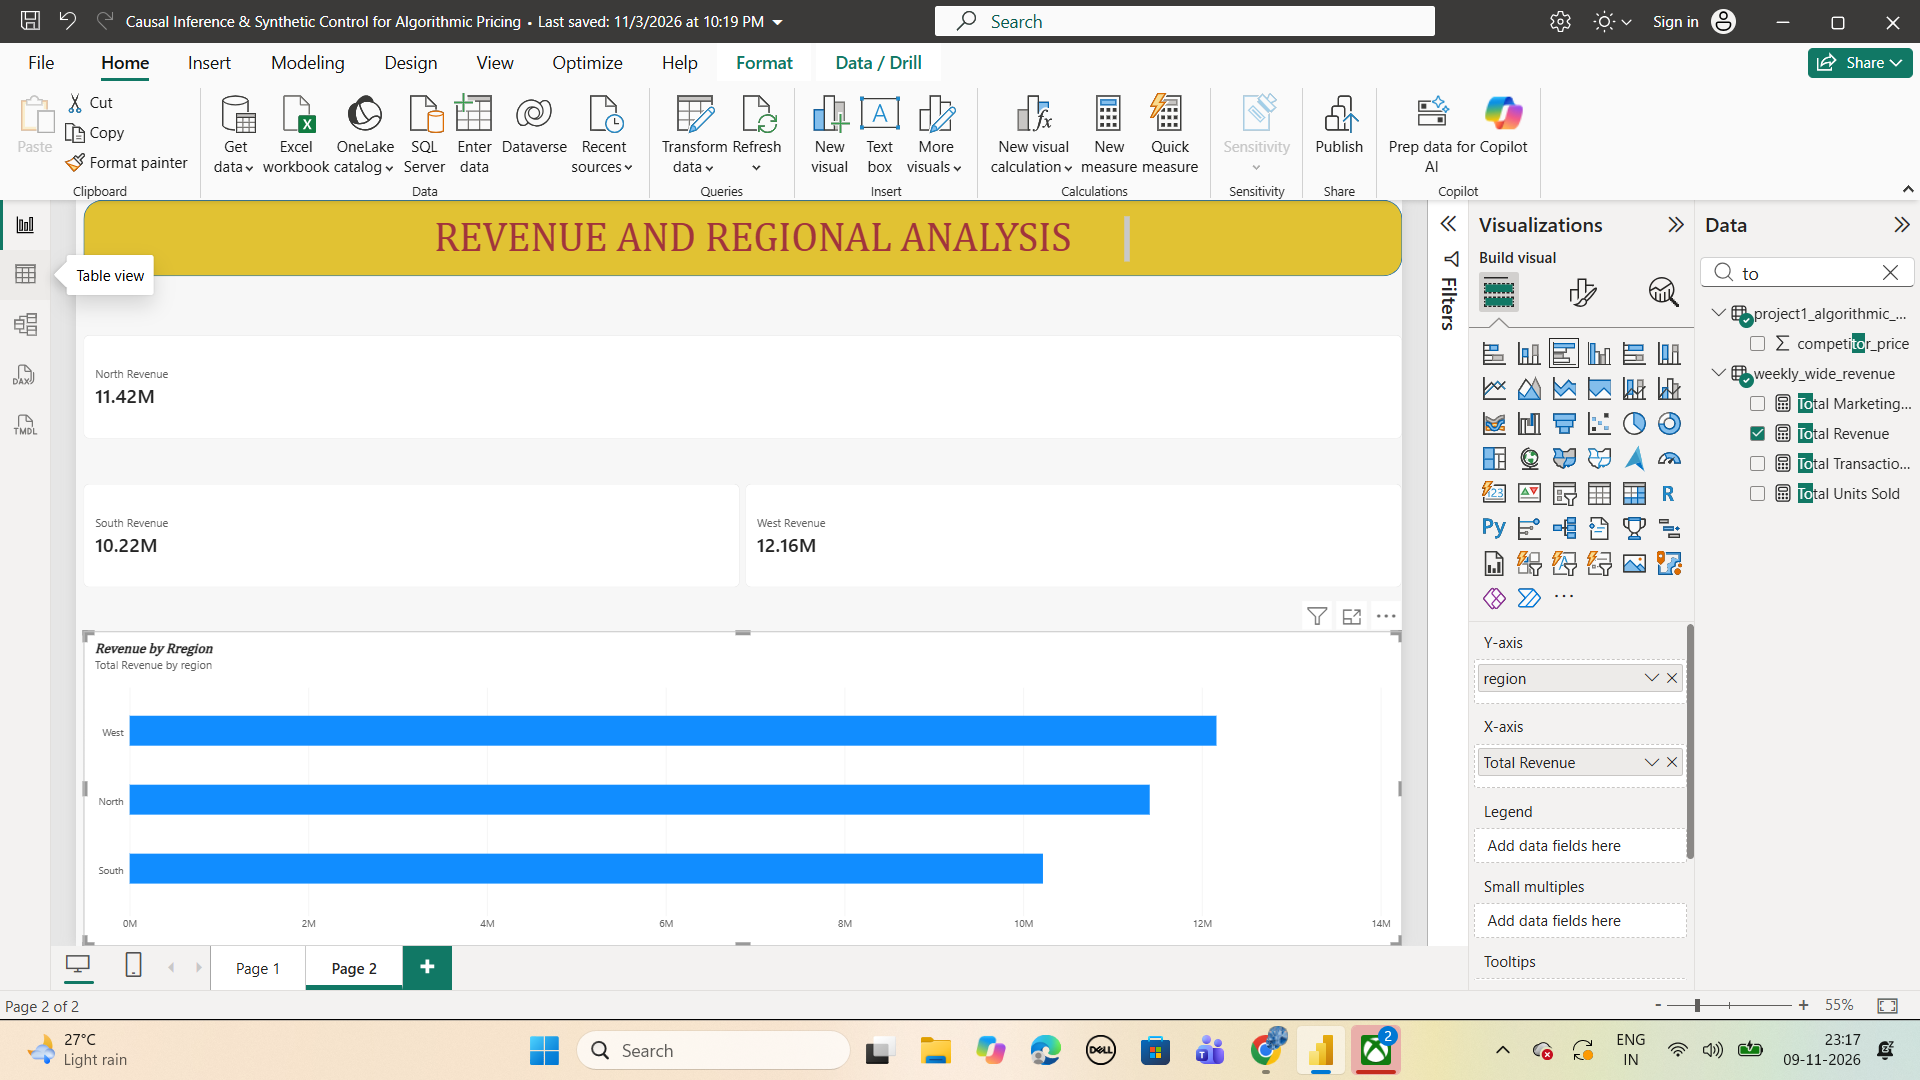

The page's visual inventory and layout, read from the dashboard file:
{"tool":"powerbi","page":{"name":"Page 2","canvas":[1920,1080],"ordinal":1},"visuals":[{"type":"shape","box":[29,0,1891.1,128.5],"z":0},{"type":"textbox","box":[488.6,23.5,1431.4,67],"z":1000},{"type":"clusteredBarChart","title":"Revenue by Rregion","fields":{"Category":["project1_algorithmic_pricing_synthetic_dataset.region"],"Y":["weekly_wide_revenue.Total Revenue"]},"box":[29,618.9,998.9,436.1],"z":2000},{"type":"cardVisual","fields":{"Data":["weekly_wide_revenue.West Revenue","weekly_wide_revenue.South Revenue","weekly_wide_revenue.North Revenue"]},"box":[29,153.8,1891.1,181],"z":3000},{"type":"columnChart","fields":{"Category":["project1_algorithmic_pricing_synthetic_dataset.region"],"Y":["Sum(project1_algorithmic_pricing_synthetic_dataset.units_sold)"]},"box":[29,349.3,1876.6,255.2],"z":4000},{"type":"areaChart","fields":{"Category":["project1_algorithmic_pricing_synthetic_dataset.region"],"Y":["weekly_wide_revenue.Average Daily Revenue"]},"box":[1053.2,618.9,852.4,436.1],"z":5000}]}

Visuals, with their boxes on the page's 1920x1080 design canvas (x1, y1, x2, y2). These are canvas units, not pixel positions in the 1920x1080 screenshot, which may show the page scaled, cropped or inside an application window:
shape: 29/0/1920/128
textbox: 489/24/1920/90
"Revenue by Rregion" clusteredBarChart: 29/619/1028/1055
cardVisual - weekly_wide_revenue.West Revenue x weekly_wide_revenue.South Revenue: 29/154/1920/335
columnChart - project1_algorithmic_pricing_synthetic_dataset.region x Sum(project1_algorithmic_pricing_synthetic_dataset.units_sold): 29/349/1906/604
areaChart - project1_algorithmic_pricing_synthetic_dataset.region x weekly_wide_revenue.Average Daily Revenue: 1053/619/1906/1055
